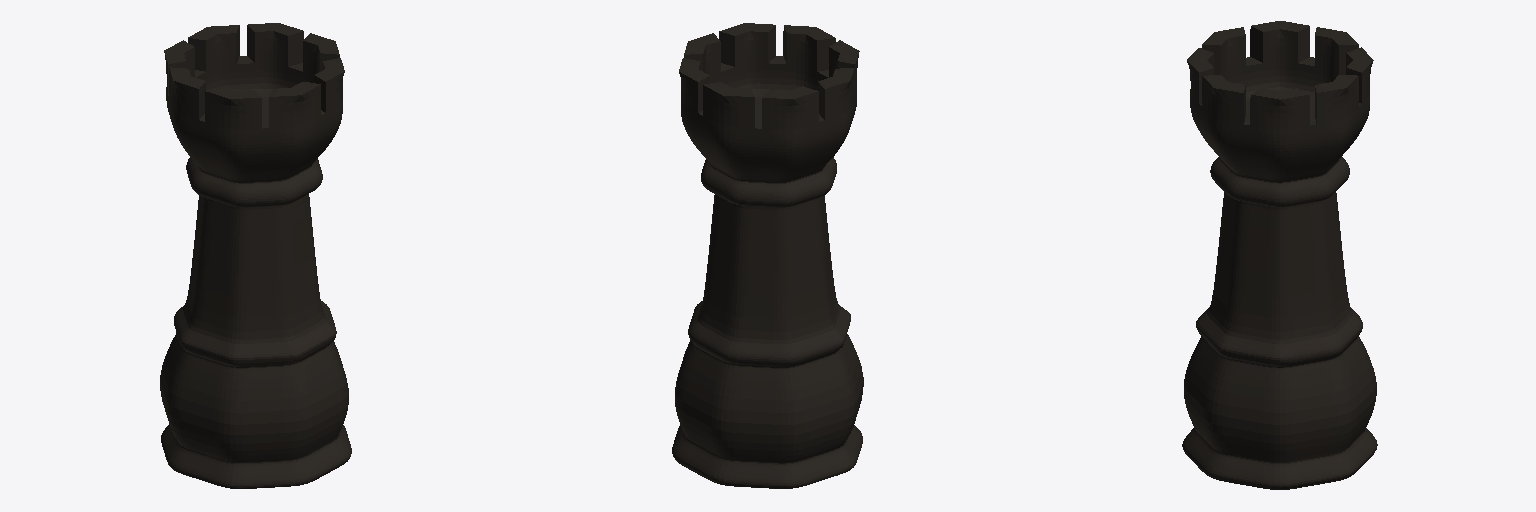
Rendered from rook.obj.
3 views of the same model, side by side, from view 1: azimuth 30°, elevation 25°; view 2: azimuth 150°, elevation 25°; view 3: azimuth 270°, elevation 25° (orthographic).
Visible parts, largest first — view 1: Cercle; view 2: Cercle; view 3: Cercle.
Boxes of the visible parts, box(x1,y1,x2,y2) form: Cercle: box(160, 23, 351, 488); Cercle: box(672, 23, 863, 488); Cercle: box(1182, 21, 1377, 489).
Size of the model in its own units: 1.25 by 2.74 by 1.24.